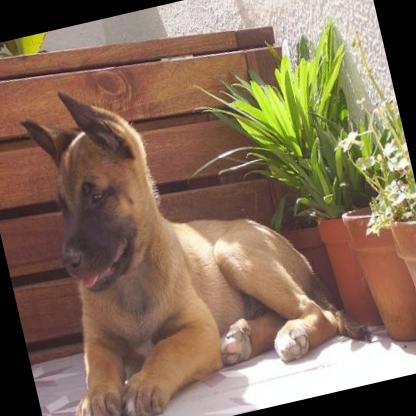malinois: (0, 29, 382, 416)
